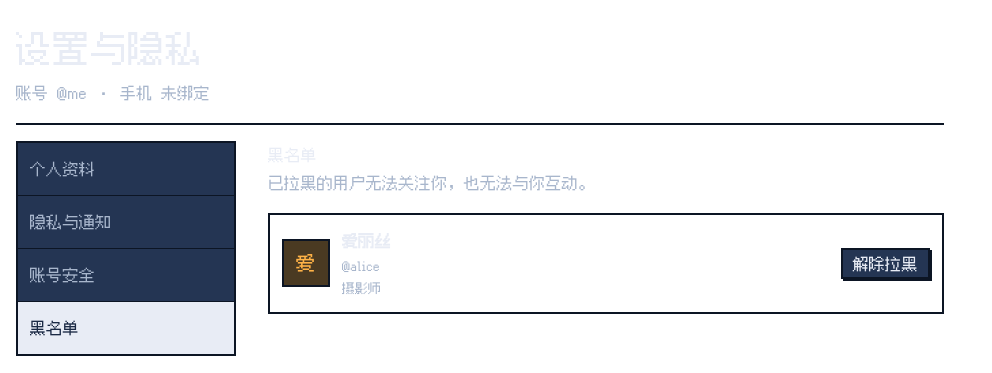
Scenario: SettingsPage 黑名单 › 从设置入口展示黑名单并可解除拉黑
Expected: the text "@alice" is shown, 342,257 -> 380,274
Click the button "解除拉黑" at (885, 263), box 841,248 -> 930,279
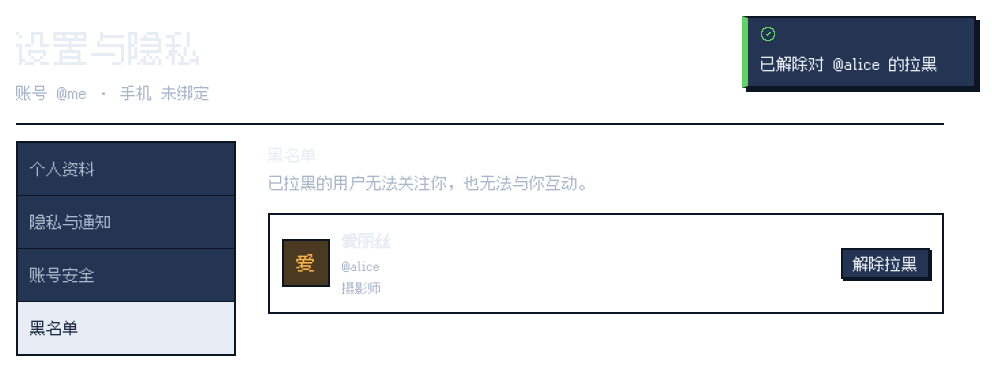
Expected: the message reads "已解除对 @alice 的拉黑", 760,53 -> 938,74
